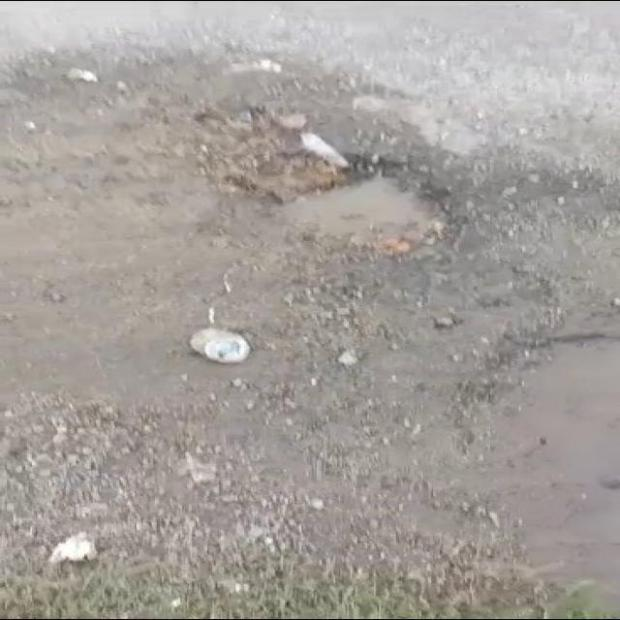lubang: (422, 307, 619, 518), (194, 107, 446, 253)
